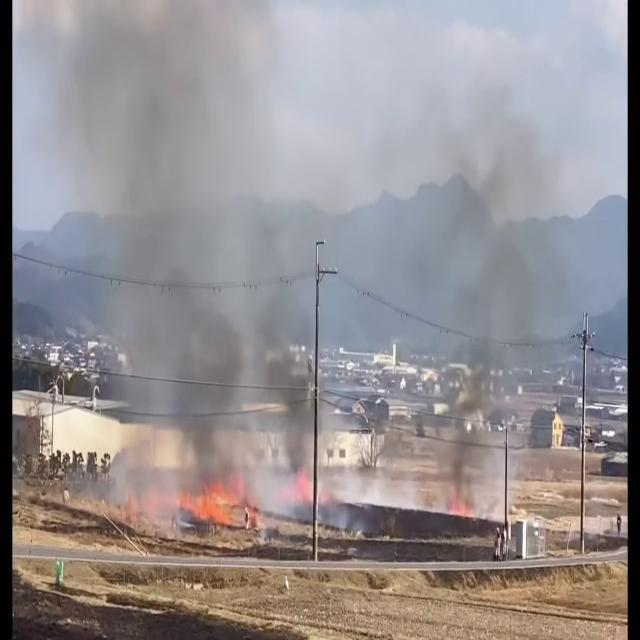Fire: (180, 479, 254, 532)
Smoke: (78, 5, 368, 518), (406, 47, 622, 498)
